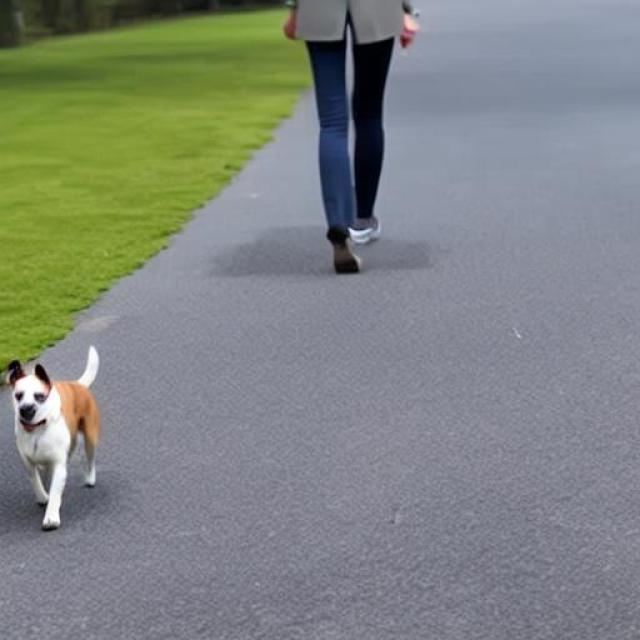Unleashed_Dog: (6, 21, 348, 531)
